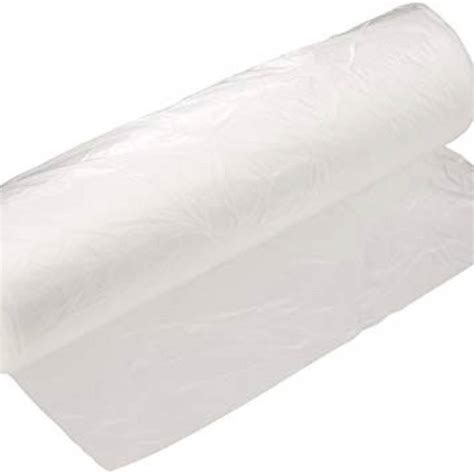nylon: (1, 3, 474, 472)
